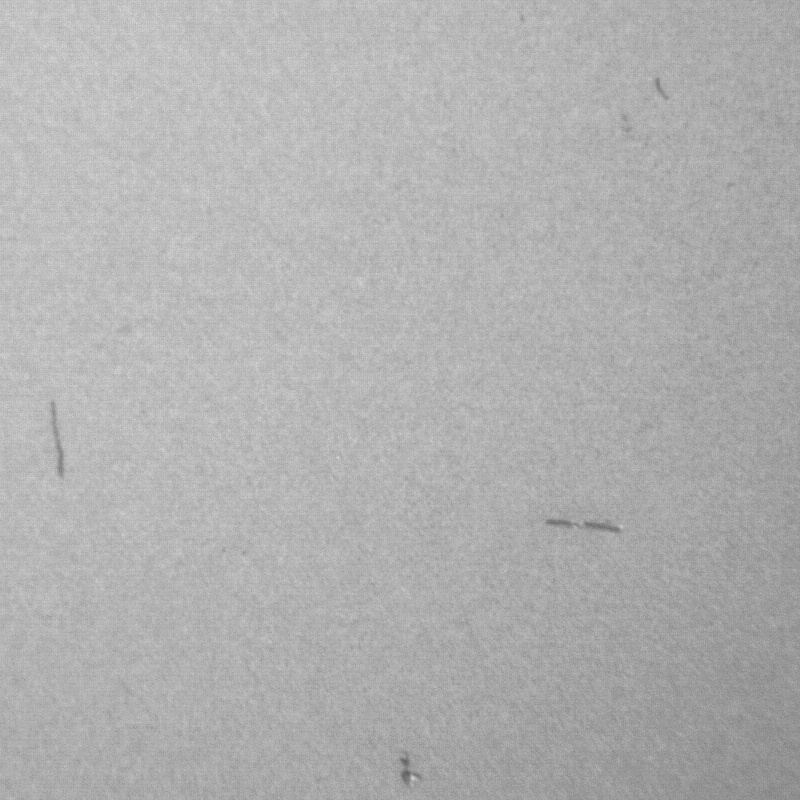defect: (544, 510, 626, 545), (50, 400, 73, 478), (396, 747, 432, 787), (656, 76, 668, 101)
